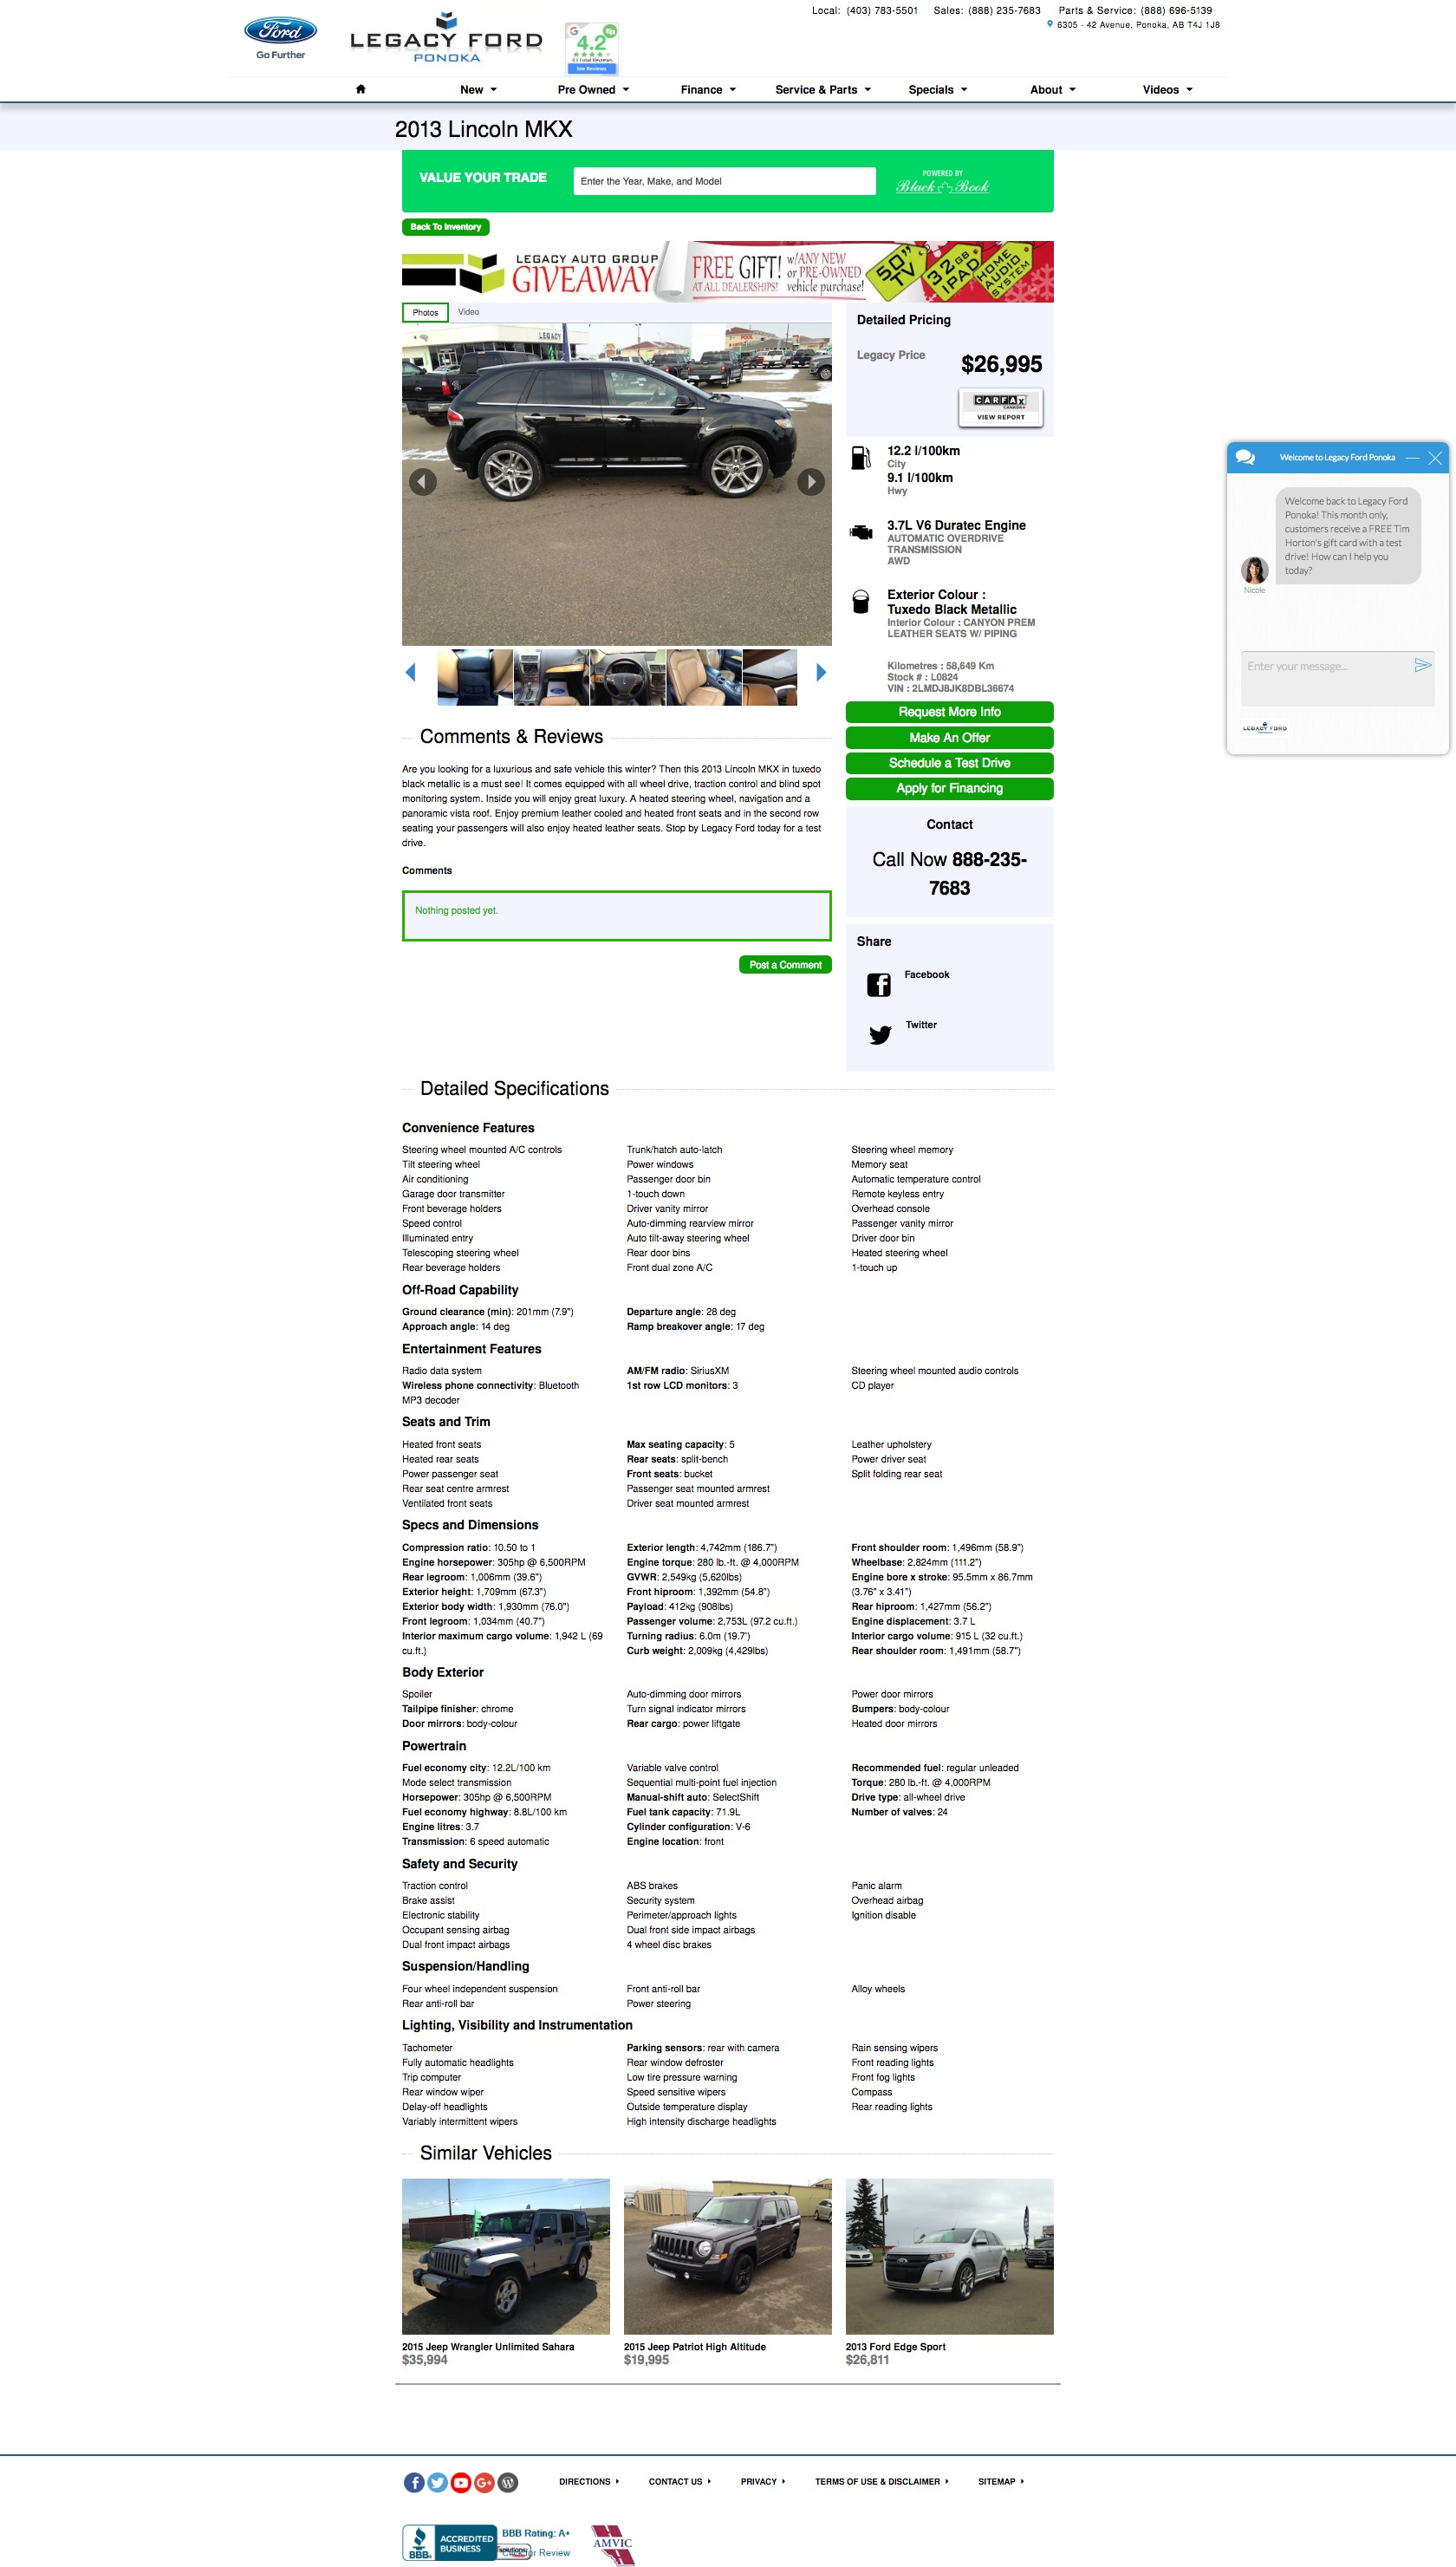car: (816, 661, 828, 684)
